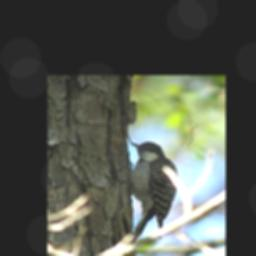Woodpecker: (127, 140, 179, 242)
